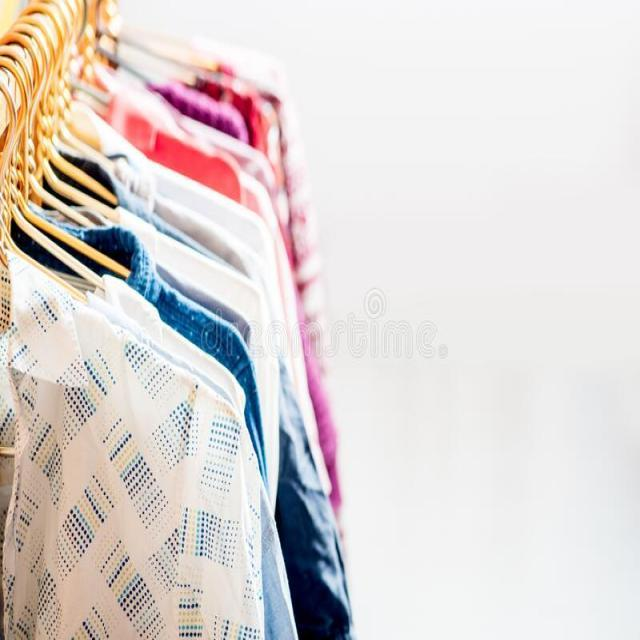clothes: (1, 49, 316, 633)
